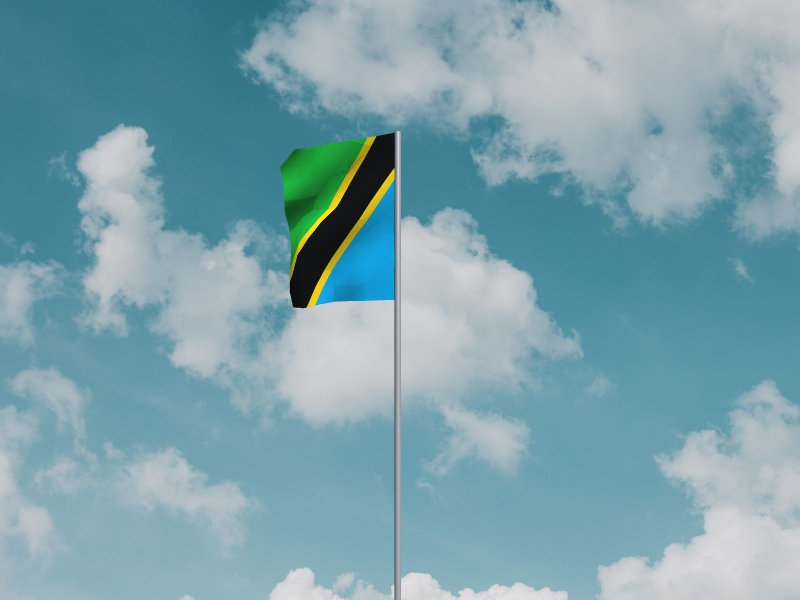tz: (281, 133, 395, 310)
